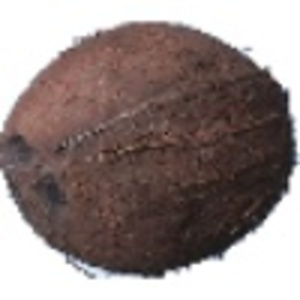coco: (1, 21, 300, 279)
